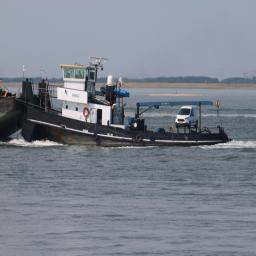tugboat: (19, 57, 236, 152)
